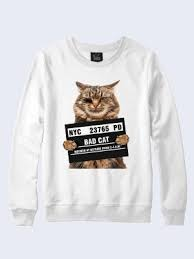cat: (70, 80, 125, 120)
